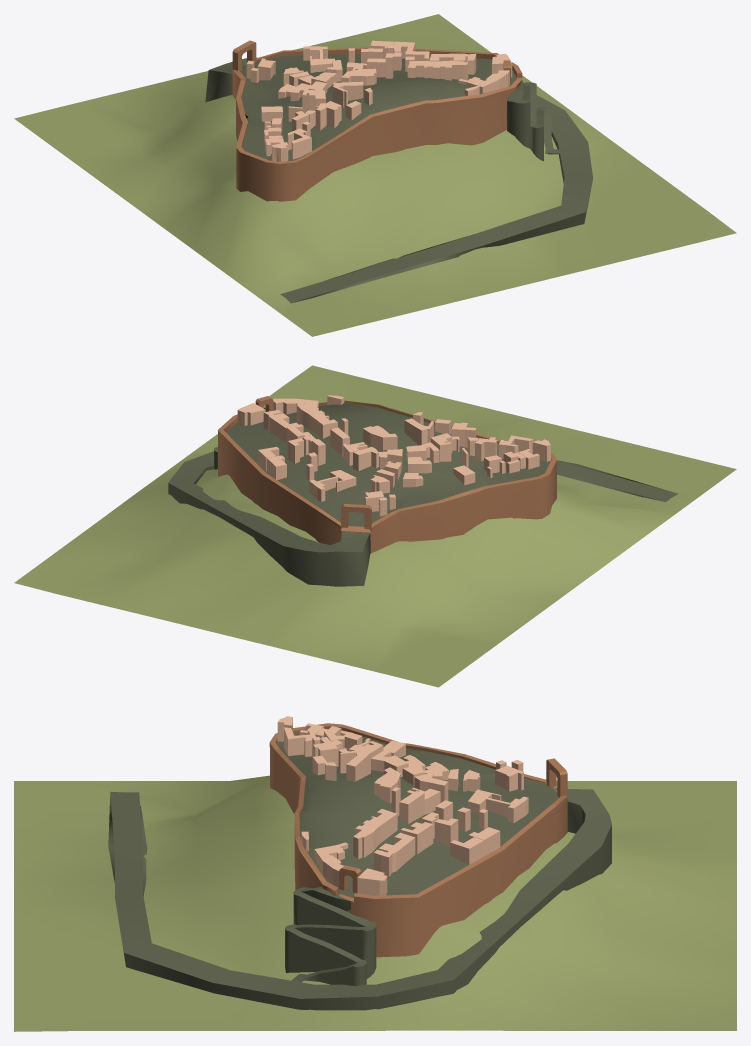
Rendered from ville_v16.fbx.
3 renders of one model, top to bottom at view 1: azimuth 30°, elevation 25°; view 2: azimuth 150°, elevation 25°; view 3: azimuth 270°, elevation 25°, orthographic. The views are drawn at different scales.
Visible parts, largest first — view 1: Ville; view 2: Ville; view 3: Ville.
Boxes of the visible parts, box(x1,y1,x2,y2) form: Ville: box(14, 14, 736, 336); Ville: box(14, 365, 736, 687); Ville: box(14, 716, 736, 1031).
Size of the model in its own units: 986 by 242 by 1200.
